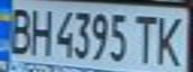3: (72, 8, 93, 61)
4: (51, 7, 75, 58)
5: (106, 9, 133, 64)
9: (87, 9, 112, 62)
B: (3, 3, 36, 56)
H: (27, 5, 54, 57)
K: (151, 11, 190, 69)
T: (130, 10, 160, 65)
